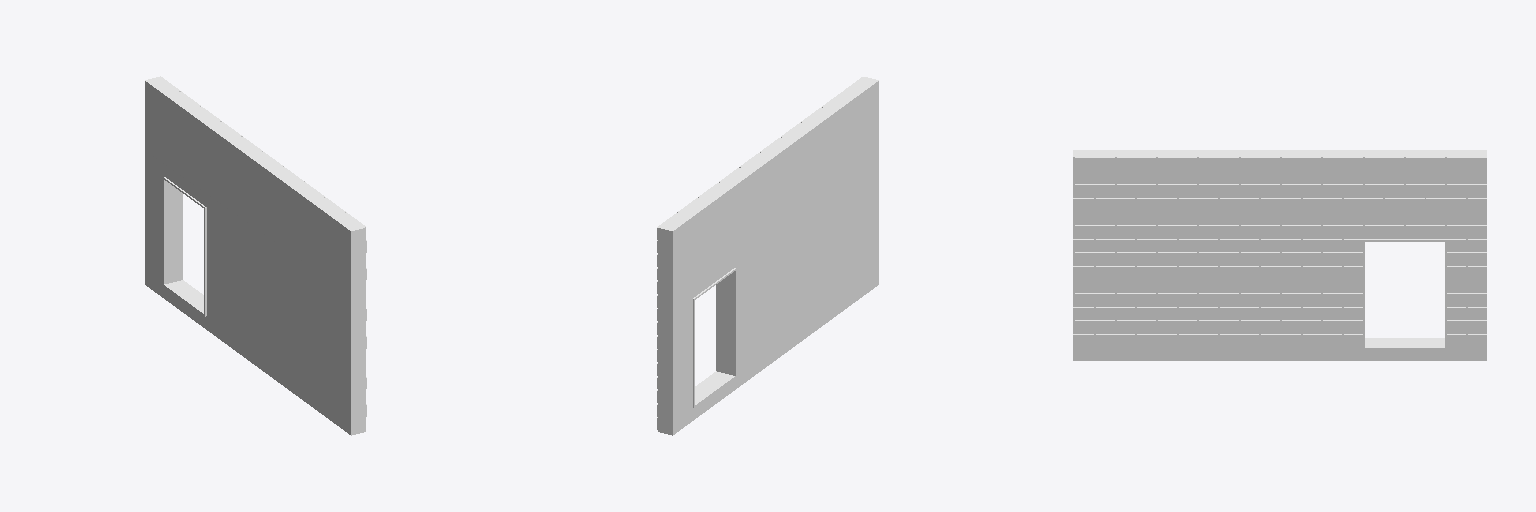
The model's file is brick_wall_door.obj.
3 renders of one model, left to right at view 1: azimuth 30°, elevation 25°; view 2: azimuth 150°, elevation 25°; view 3: azimuth 270°, elevation 25°, orthographic.
Parts seen in each view (by area): view 1: object 1; view 2: object 1; view 3: object 1.
Boxes of the visible parts, x1,y1,x2,y2 form: object 1: [145, 76, 366, 435]; object 1: [657, 77, 878, 435]; object 1: [1073, 150, 1486, 360].
Size of the model in its own units: 1.2 by 12 by 22.